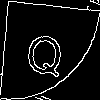Q: (25, 25, 65, 79)
